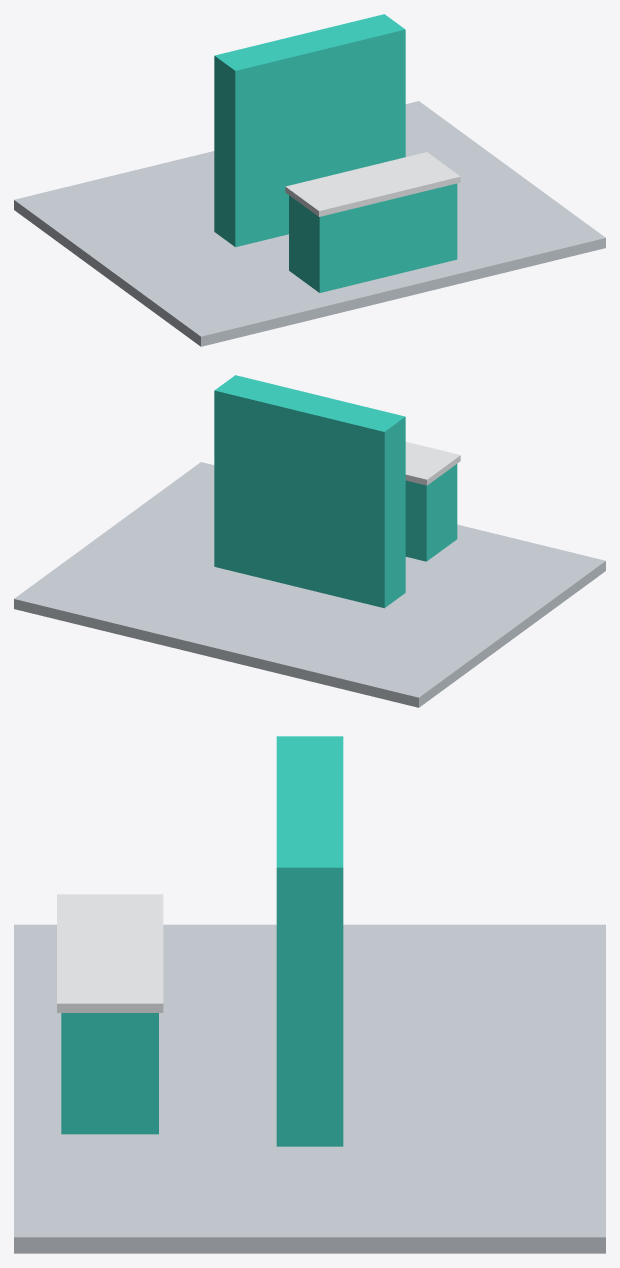
The picture shows the model from 3 angles, top to bottom: view 1: azimuth 30°, elevation 25°; view 2: azimuth 150°, elevation 25°; view 3: azimuth 270°, elevation 25°; orthographic projection. The views are drawn at different scales.
Visible parts, largest first — view 1: Exhibition Booth Concept; view 2: Exhibition Booth Concept; view 3: Exhibition Booth Concept.
Part boxes in pixels (bbox=[...]): Exhibition Booth Concept: bbox=[14, 14, 605, 346]; Exhibition Booth Concept: bbox=[14, 375, 605, 707]; Exhibition Booth Concept: bbox=[14, 736, 605, 1253].
Bounding box in the file's own units: 5 × 2.2 × 4.
